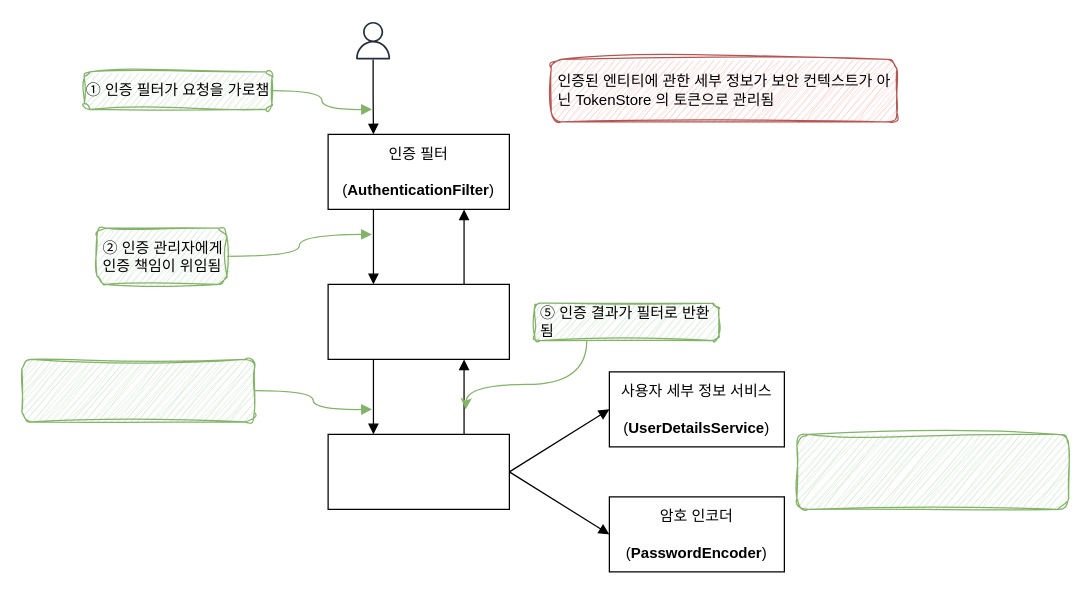
The diagram is 1091 pixels wide and 594 high, and some of its shapes have lost their labels. Here are the shapes that lost their labels. From the top down, the centre of each, then its label:
the point at 418,321: 인증 관리자 ( AuthenticationManager )
the point at 137,390: ③ 인증 관리자는 인증 논리를 구현하는 인증 공급자를 이용함
the point at 418,471: 인증 공급자 ( AuthenticationProvider )
the point at 932,471: ④ 인증 공급자는 사용자 세부 정보 서비스로 사용자를 찾고, 암호 인코더로 암호를 검증함
